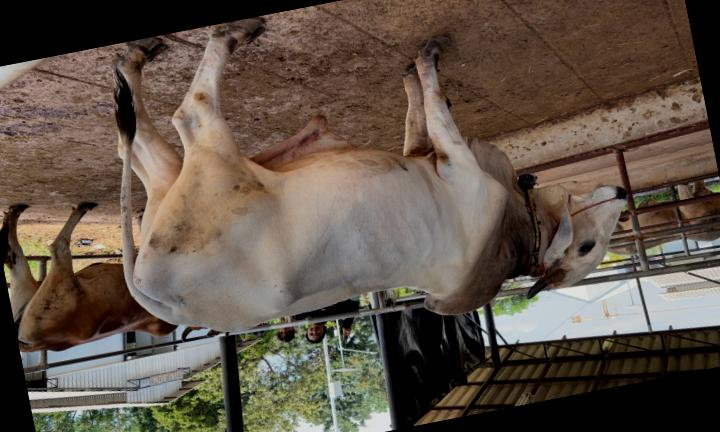Brahman: (114, 18, 625, 331)
